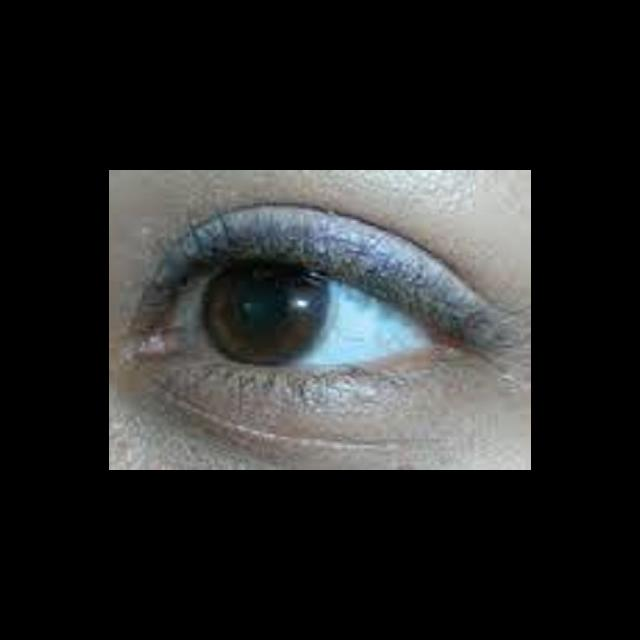eye: (169, 258, 443, 368)
iris: (204, 262, 336, 366)
